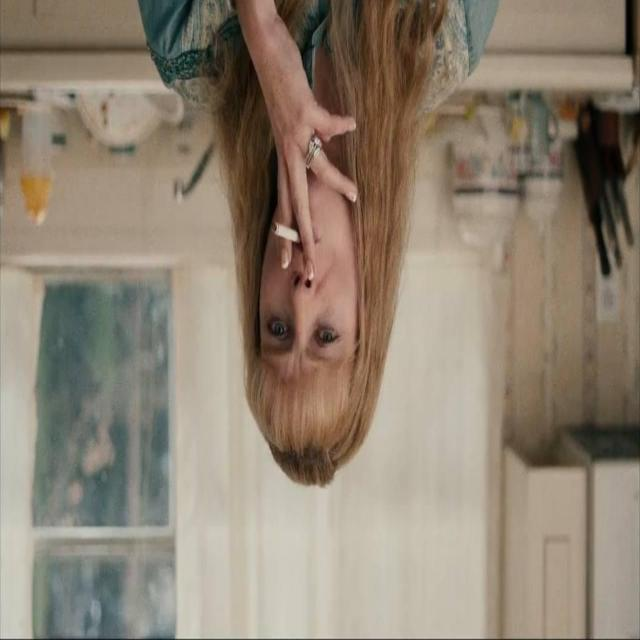cigarette: (268, 215, 316, 256)
